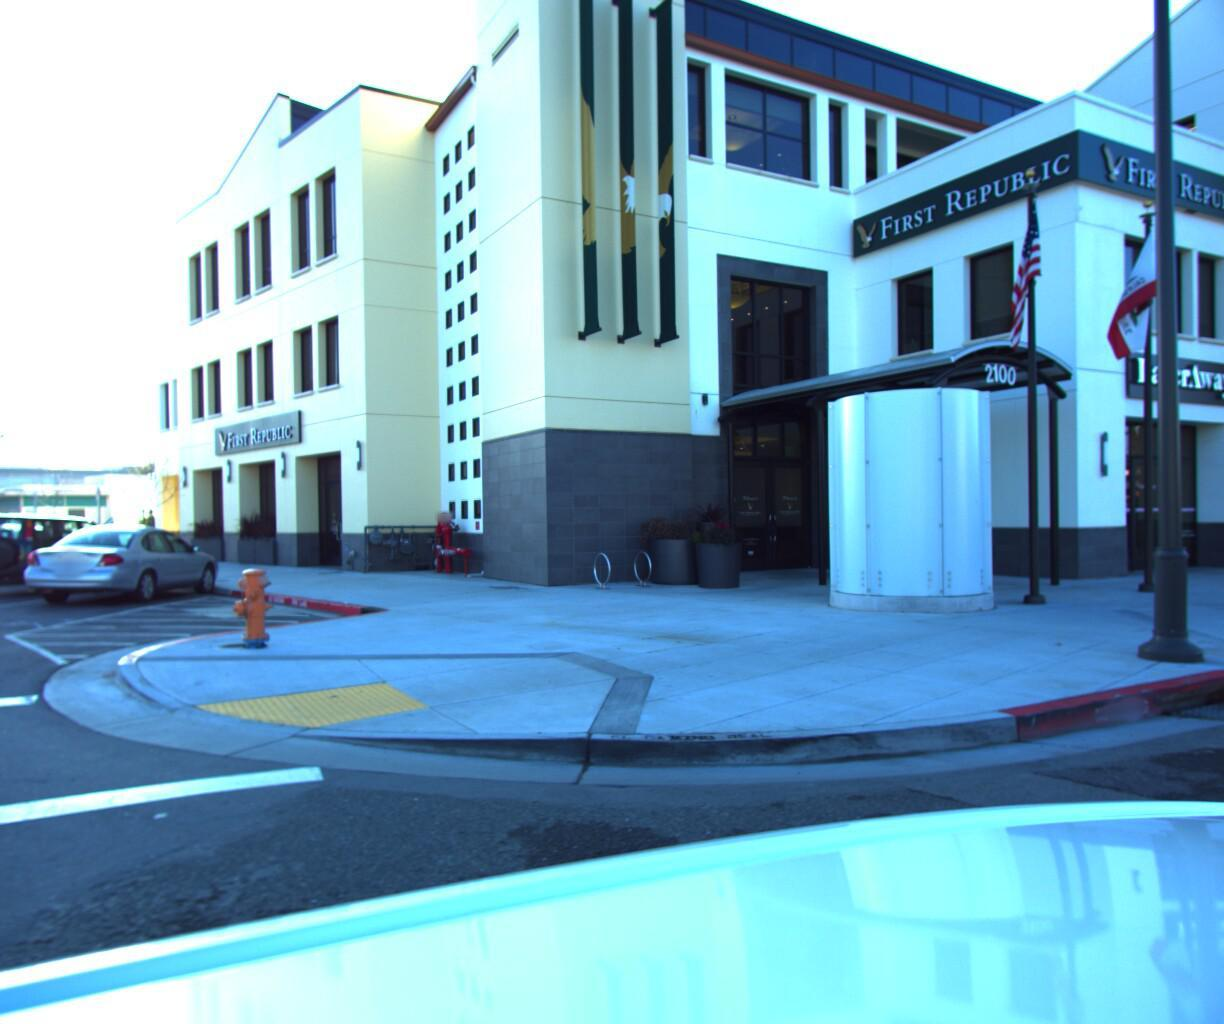car: (0, 515, 231, 614), (0, 510, 159, 602), (0, 523, 125, 587), (0, 520, 96, 578), (0, 506, 65, 573)
